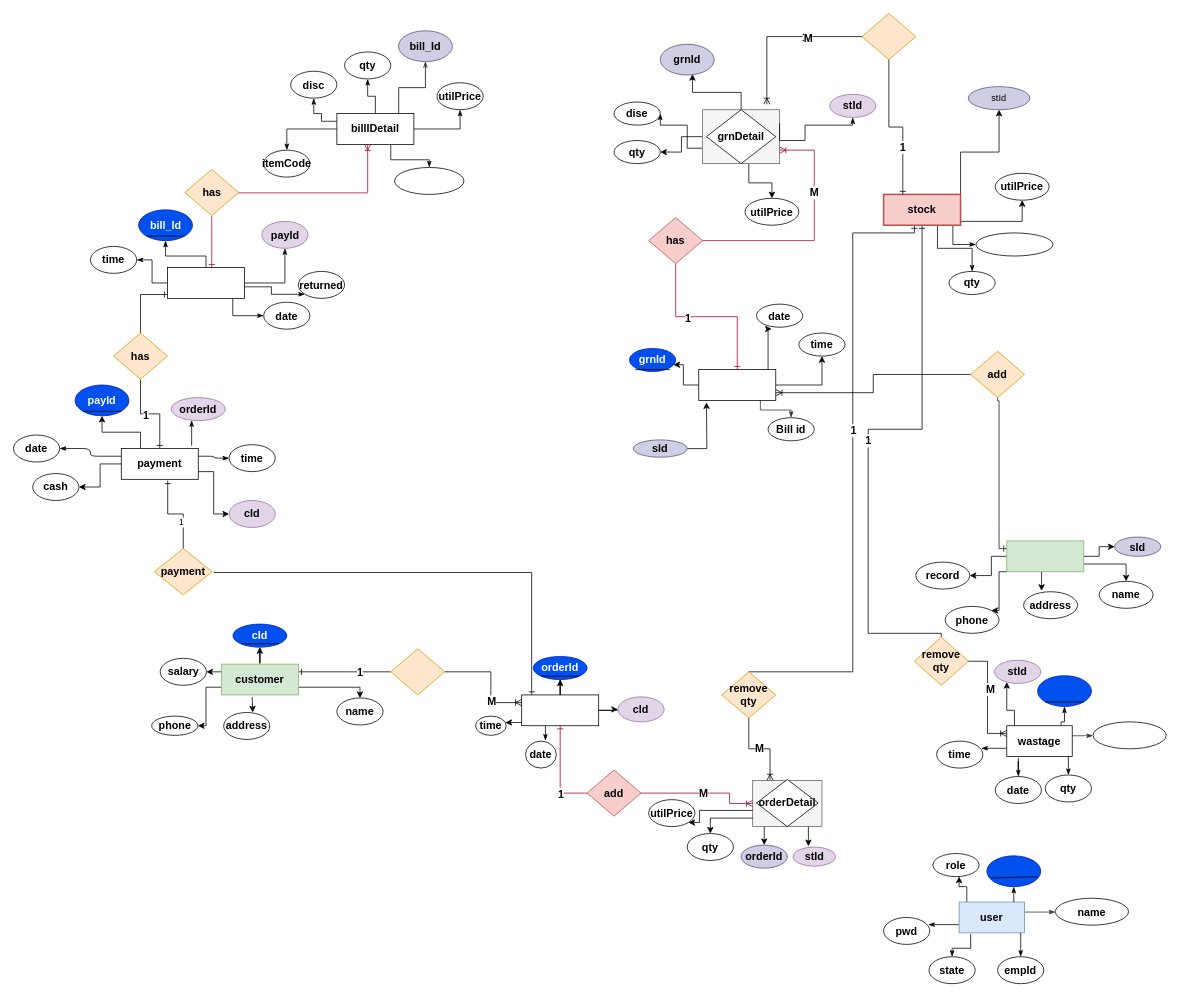
Image size: 1180x997. Some labels were removed from this diagram. Here are the shapes that lost their labels. From the top down, the centre of each, then its label:
At [888,36]: "update qty".
At [429,180]: "description".
At [1014,244]: "descreption".
At [205,282]: "bill".
At [737,384]: "grn".
At [1045,556]: "suplier".
At [417,671]: "Place".
At [1064,690]: "wastageId".
At [560,710]: "order".
At [1129,735]: "reason".
At [1013,871]: "userId".
